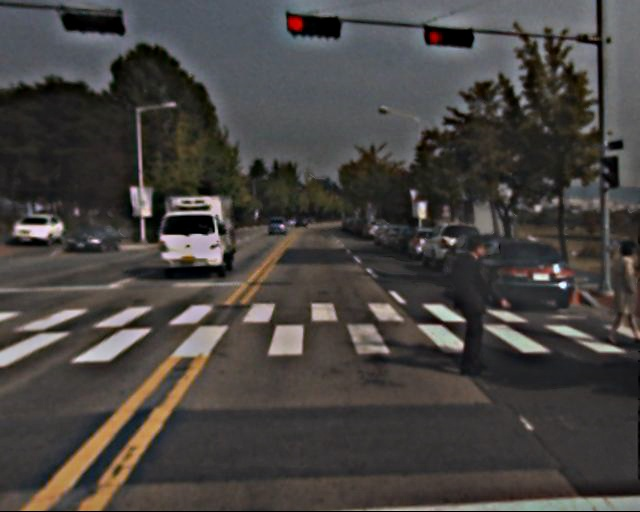person: (443, 234, 506, 382), (604, 237, 640, 347)
